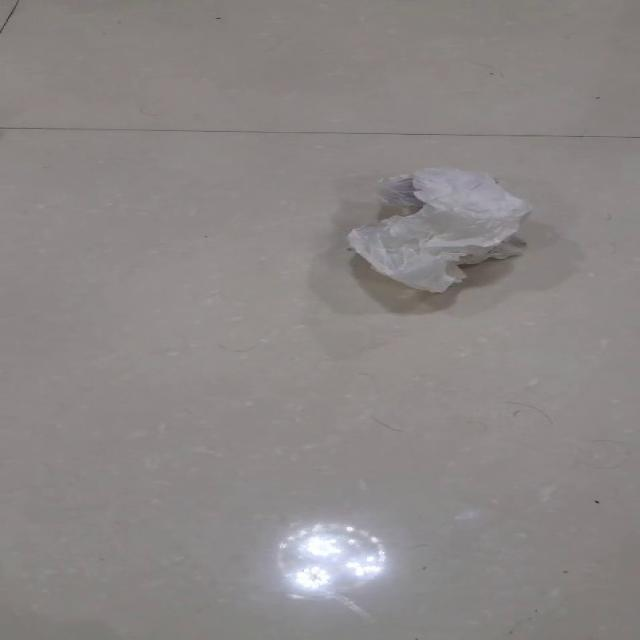plastic: (344, 165, 532, 294)
